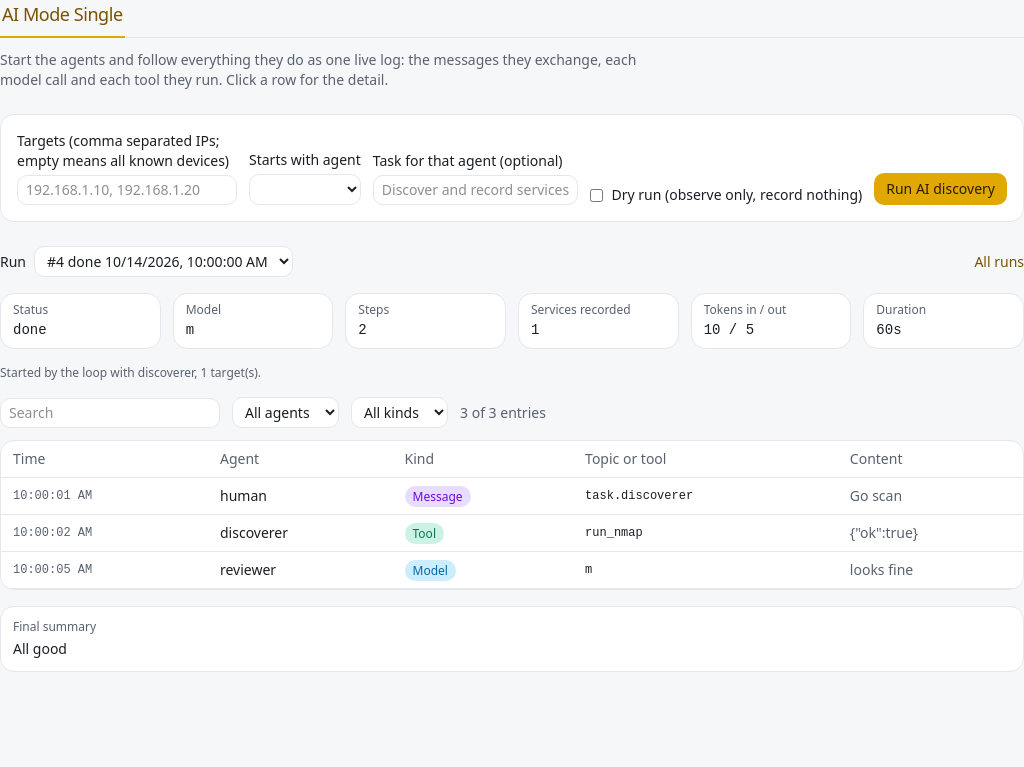
it: AiRunPage log › merges bus messages and agent steps in time order and filters them
The width and height of the screenshot is (1024, 767).
Expected: the text "3 of 3 entries" is shown, x1=460 y1=402 x2=546 y2=422
Select "reviewer" in the dropdown named "Agent" at (286, 412), box x1=232 y1=397 x2=339 y2=428
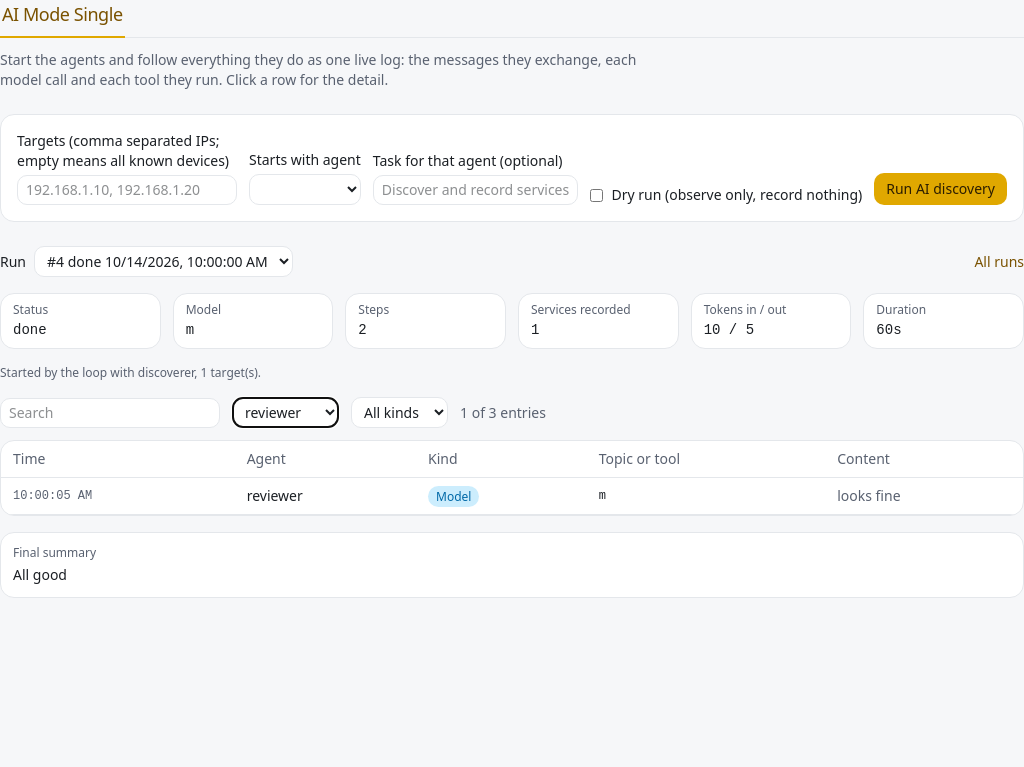
Result: the text "1 of 3 entries" is shown at x1=460 y1=402 x2=546 y2=422
Click the text "looks fine".
click(869, 496)  # box x1=825 y1=478 x2=1023 y2=514
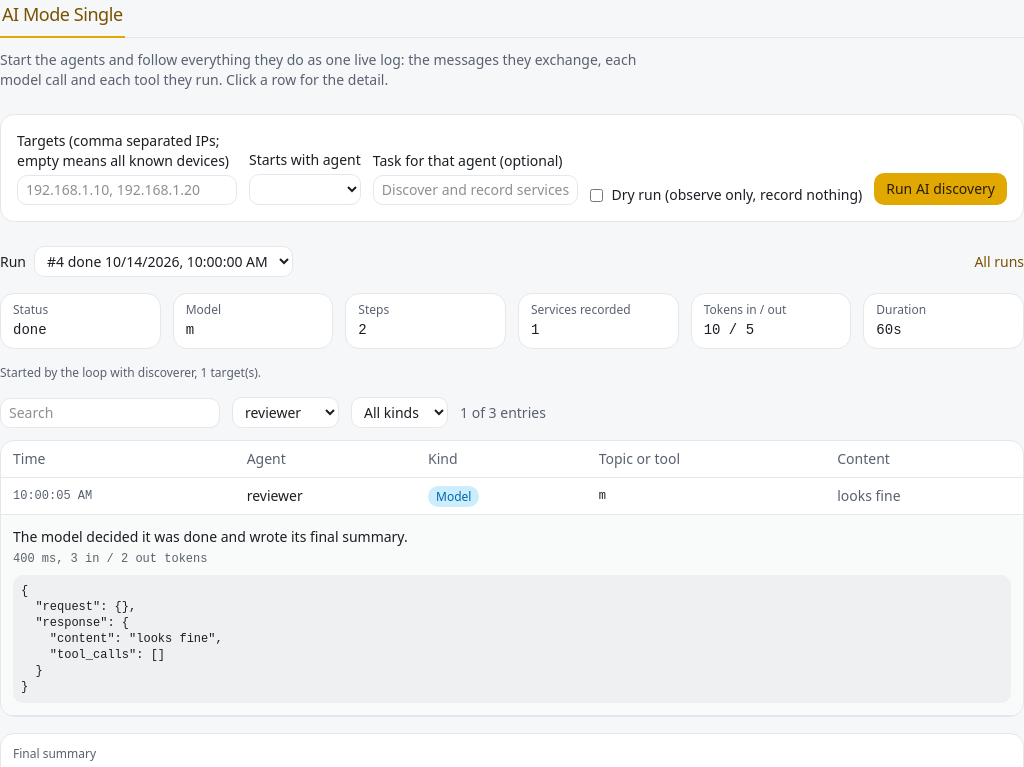
Result: the text "The model decided it was done and wrote its final summary." is shown at x1=13 y1=527 x2=408 y2=546
